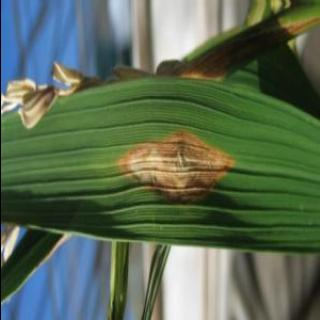Blast: (118, 127, 238, 206)
